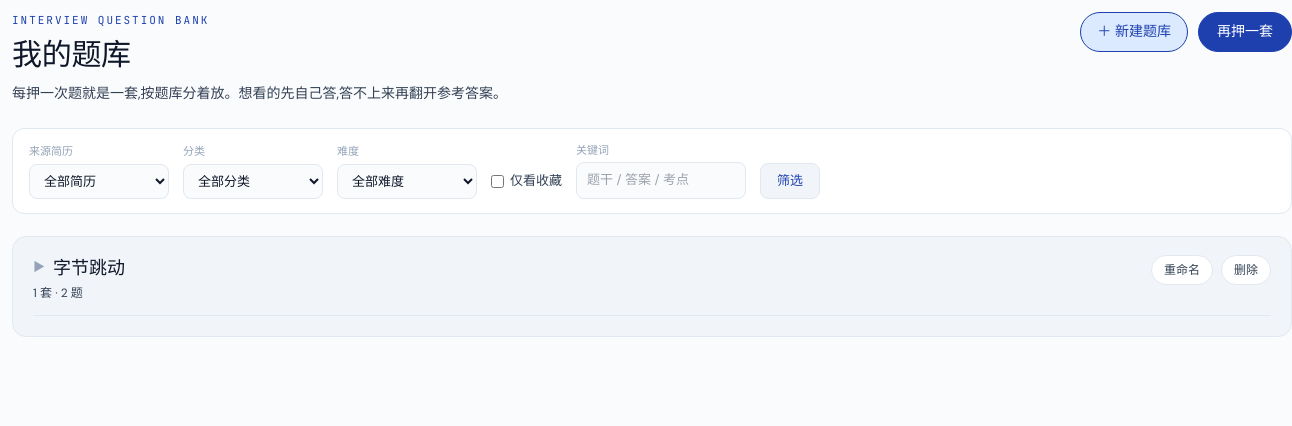
Test case: QuestionBank · 三层折叠 › 展开题库 → 出现套;套仍然是折叠的(题卡还看不见)
Click the button "▶ 字节跳动" at (79, 268), box x1=33 y1=255 x2=125 y2=280
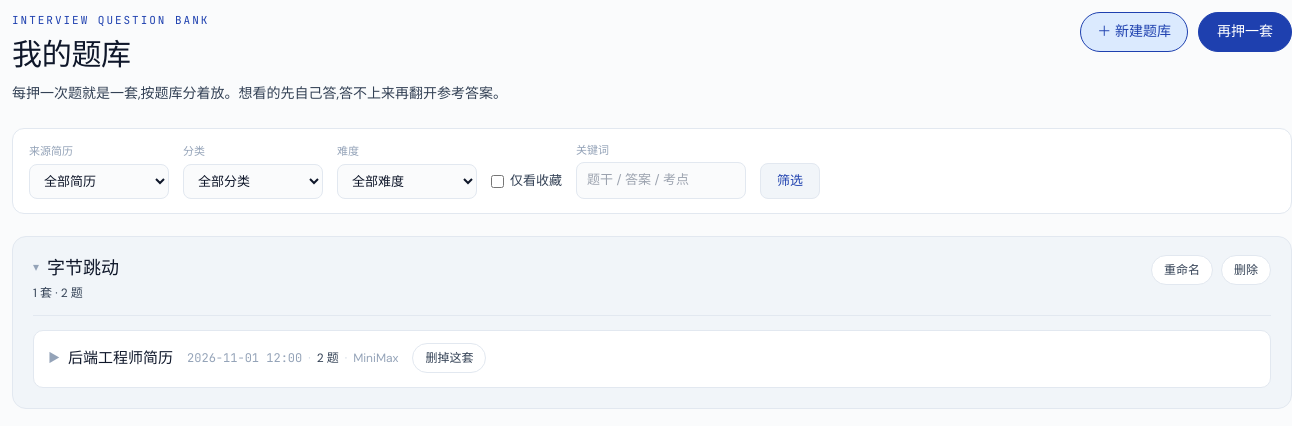
Now the element "后端工程师简历" is shown, box x1=33 y1=330 x2=1271 y2=388
